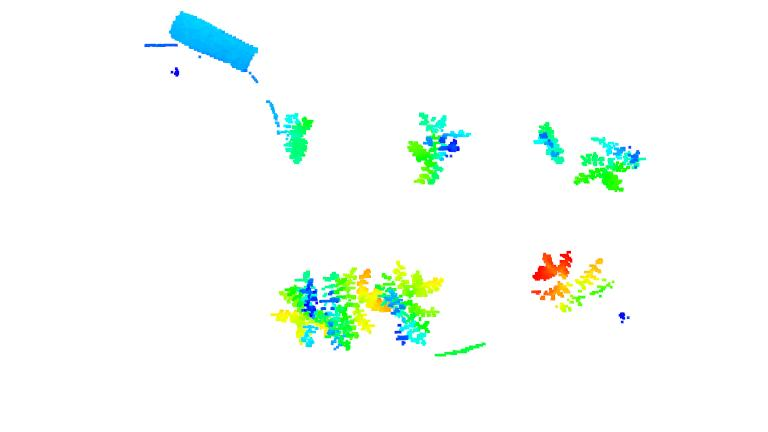chickpea: (375, 262, 445, 349), (325, 267, 389, 352), (405, 109, 472, 186), (531, 249, 616, 307), (571, 133, 647, 194), (273, 273, 327, 347), (278, 113, 320, 164), (532, 121, 566, 166)
